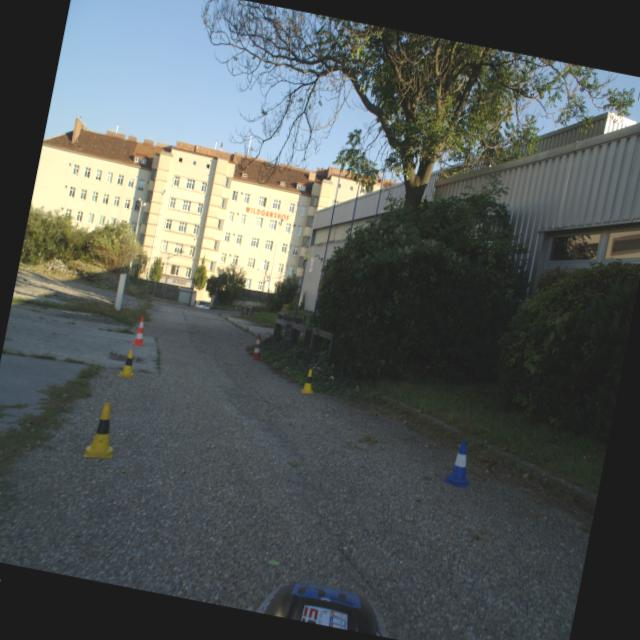blue_cone: (443, 438, 478, 489)
large_orange_cone: (131, 316, 150, 348), (250, 333, 267, 362)
yellow_cone: (84, 400, 122, 462), (117, 348, 140, 380), (300, 368, 319, 396)
